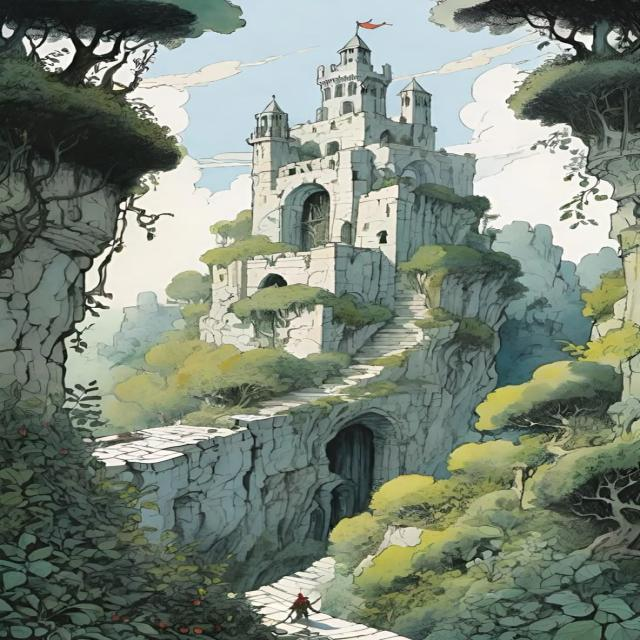castle: (133, 32, 542, 357)
